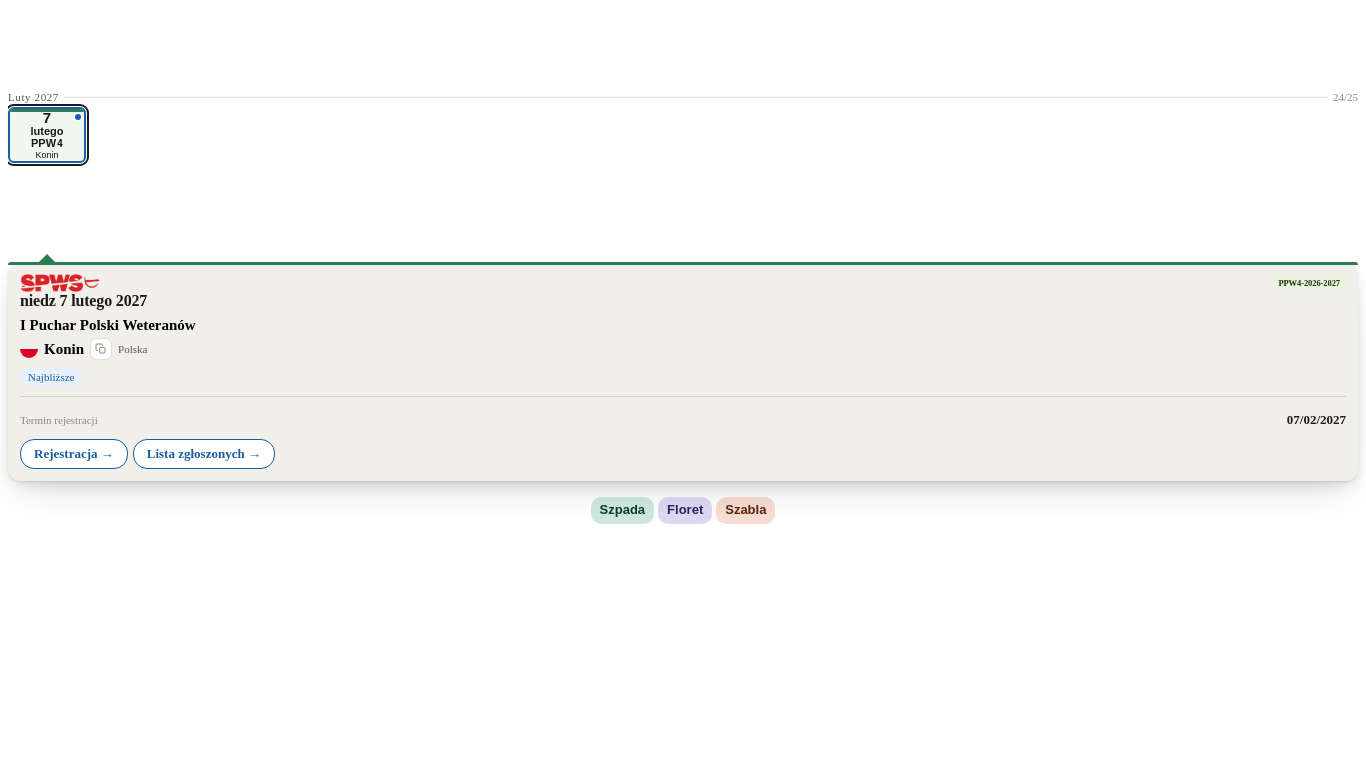
Test: CalendarView orchestrator (ADR-084) › CV.12: opens the registration modal from the card instead of navigating
What coordinates should you click on to do the following:
click the link with class "registration-link"
I would click on:
 (74, 454)
Its box is [20, 439, 128, 469].
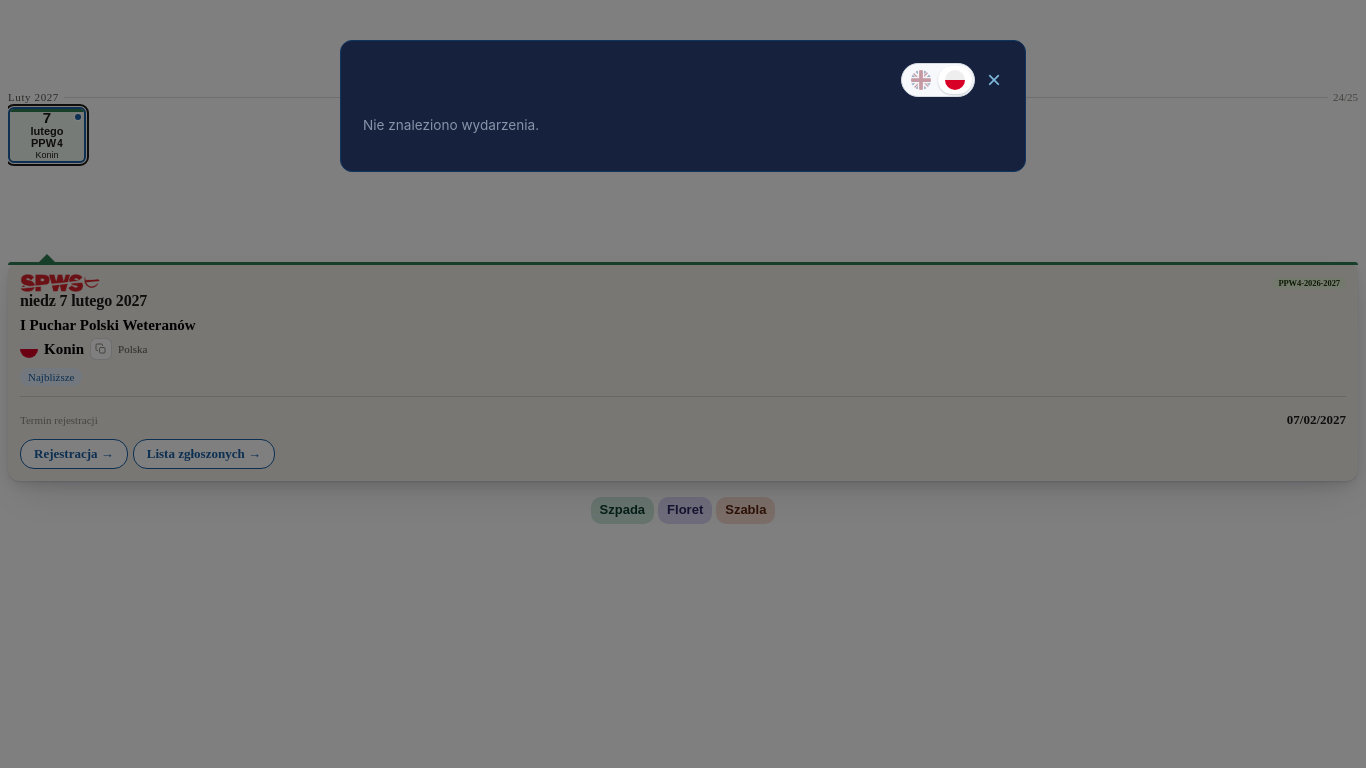
Expected: the text "Nie znaleziono wydarzenia." is shown, [363, 117, 539, 133]
Expected: the element with class "modal-overlay" is shown
